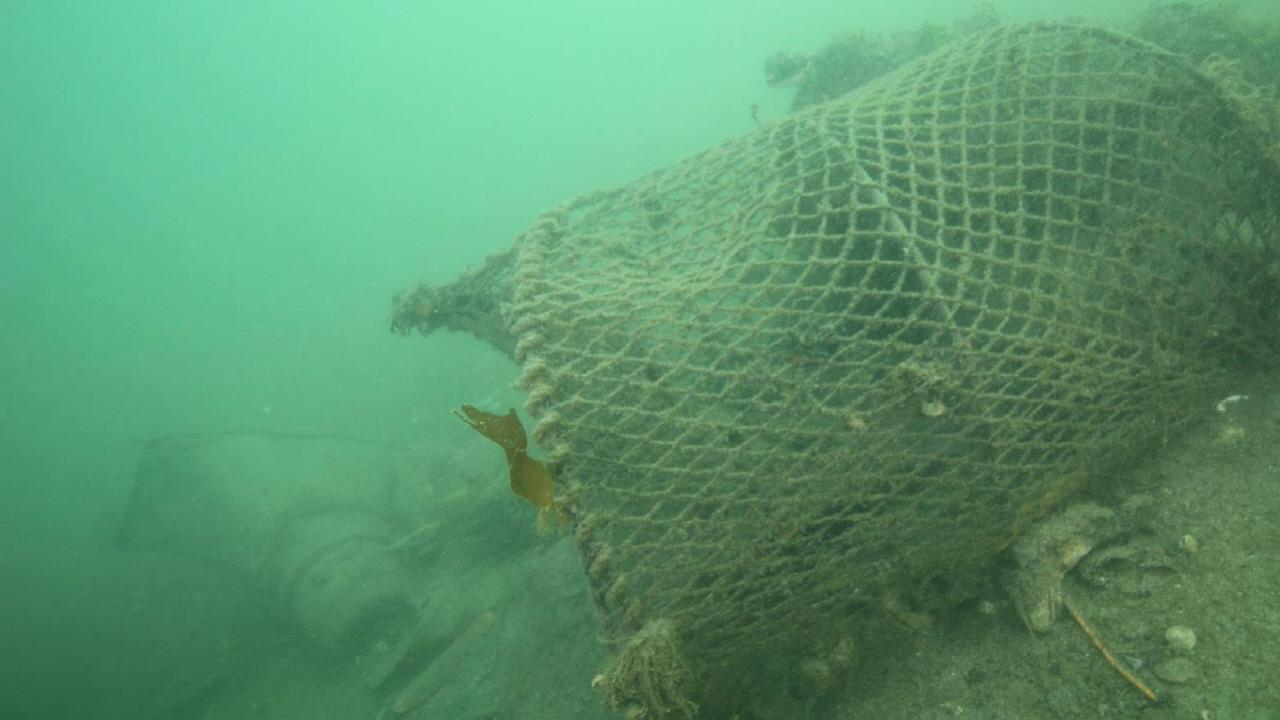spring fish trap: (513, 12, 1280, 697)
